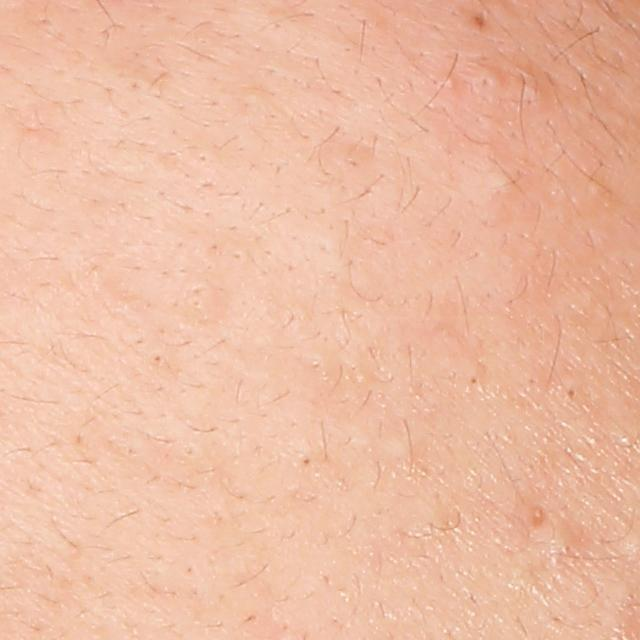comedo: (510, 69, 551, 120), (457, 365, 486, 397), (293, 448, 320, 470), (145, 348, 166, 374)
